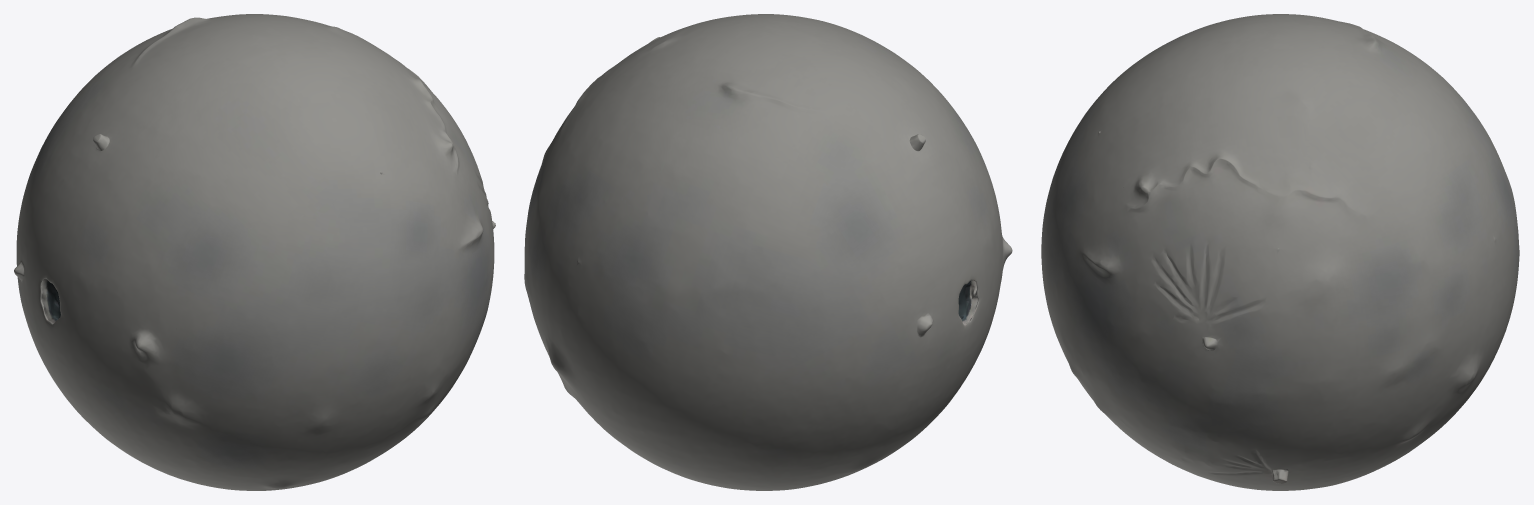
Rendered from moon-model.glb.
The picture shows the model from 3 angles, left to right: view 1: azimuth 30°, elevation 25°; view 2: azimuth 150°, elevation 25°; view 3: azimuth 270°, elevation 25°; orthographic projection.
Visible parts, largest first — view 1: tripo_node_09ded0e3-ff93-4a34-9bc4-e2fcc42b831e; view 2: tripo_node_09ded0e3-ff93-4a34-9bc4-e2fcc42b831e; view 3: tripo_node_09ded0e3-ff93-4a34-9bc4-e2fcc42b831e.
Boxes of the visible parts, x1=… form: tripo_node_09ded0e3-ff93-4a34-9bc4-e2fcc42b831e: x1=14, y1=14, x2=495, y2=490; tripo_node_09ded0e3-ff93-4a34-9bc4-e2fcc42b831e: x1=524, y1=14, x2=1012, y2=490; tripo_node_09ded0e3-ff93-4a34-9bc4-e2fcc42b831e: x1=1041, y1=14, x2=1519, y2=490.
Size of the model in its own units: 0.9942 by 1 by 0.9997.
Materials: 1 (1 with a texture image).
